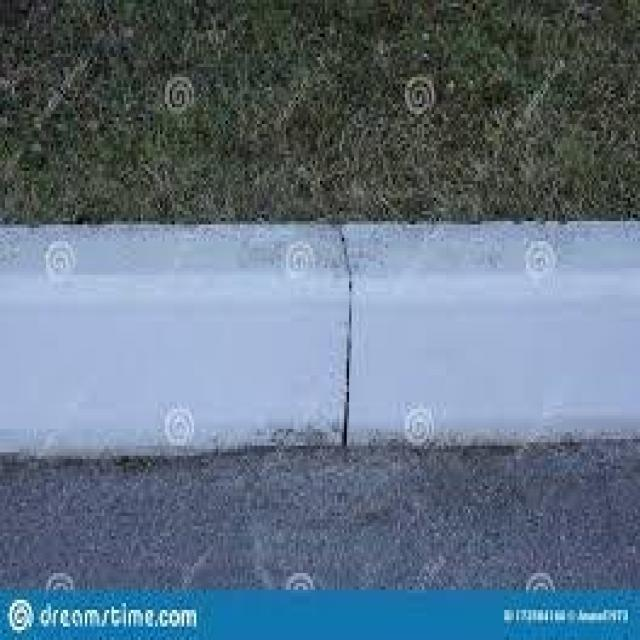curb: (1, 223, 635, 436)
